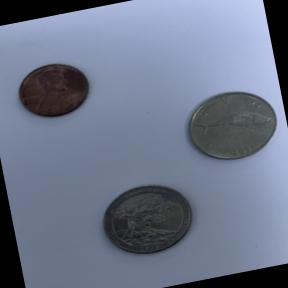coin: (89, 172, 203, 268), (177, 82, 287, 174), (9, 54, 98, 129)
